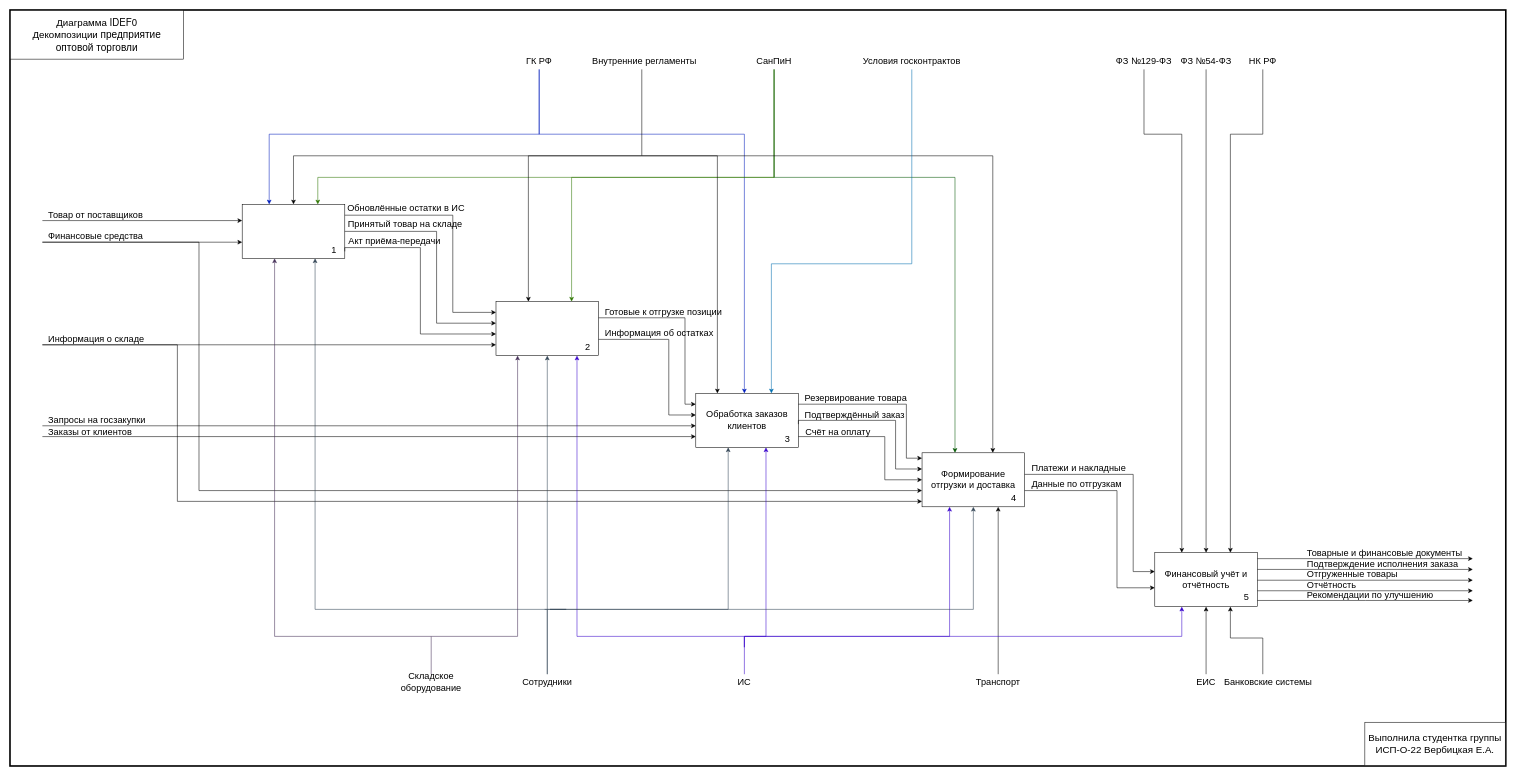
Image size: 1516x776. Some labels were removed from this diagram. Here are the shapes that lost their labels. From the top down, the box of each, then its label:
(242, 204, 345, 258): Приём и учёт товара от поставщиков
(495, 301, 599, 356): Управление складскими запасами
